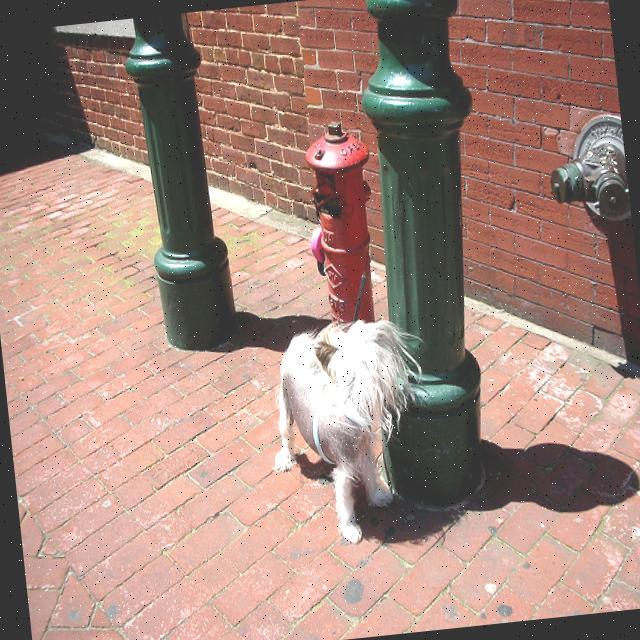fire_hydrant: (542, 111, 640, 386), (298, 114, 387, 328)
